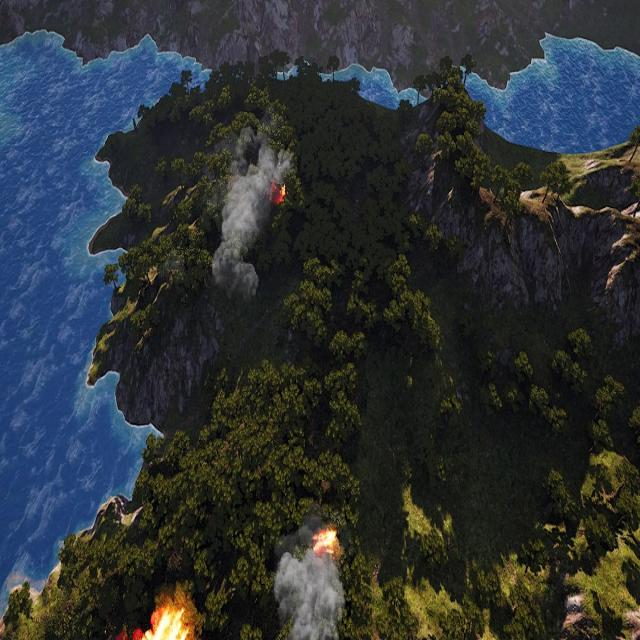fire: (139, 603, 192, 640), (312, 527, 338, 554), (272, 182, 288, 204)
smoke: (212, 129, 291, 302), (269, 516, 350, 639)
